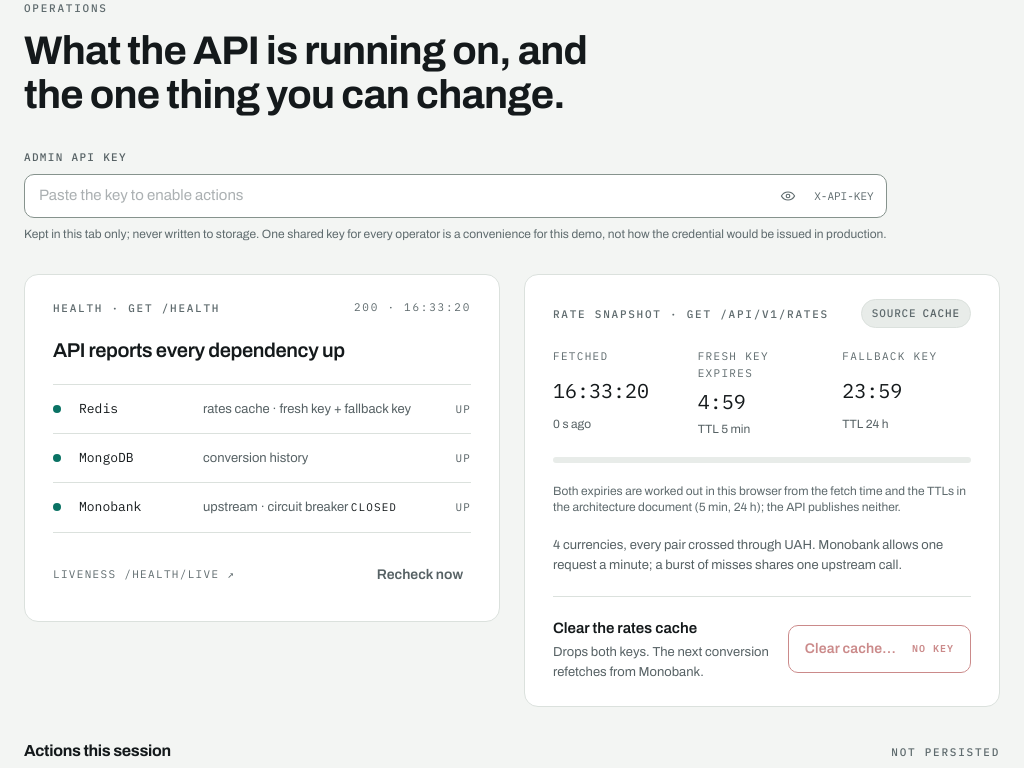
Test case: OpsPage clear-cache dialog › answers a 401 with the envelope’s own sentence and puts the caret on the key
The image size is (1024, 768).
Type "wrong-key" into the password field labelled "Admin API key" at (401, 196), box [39,175,762,217]
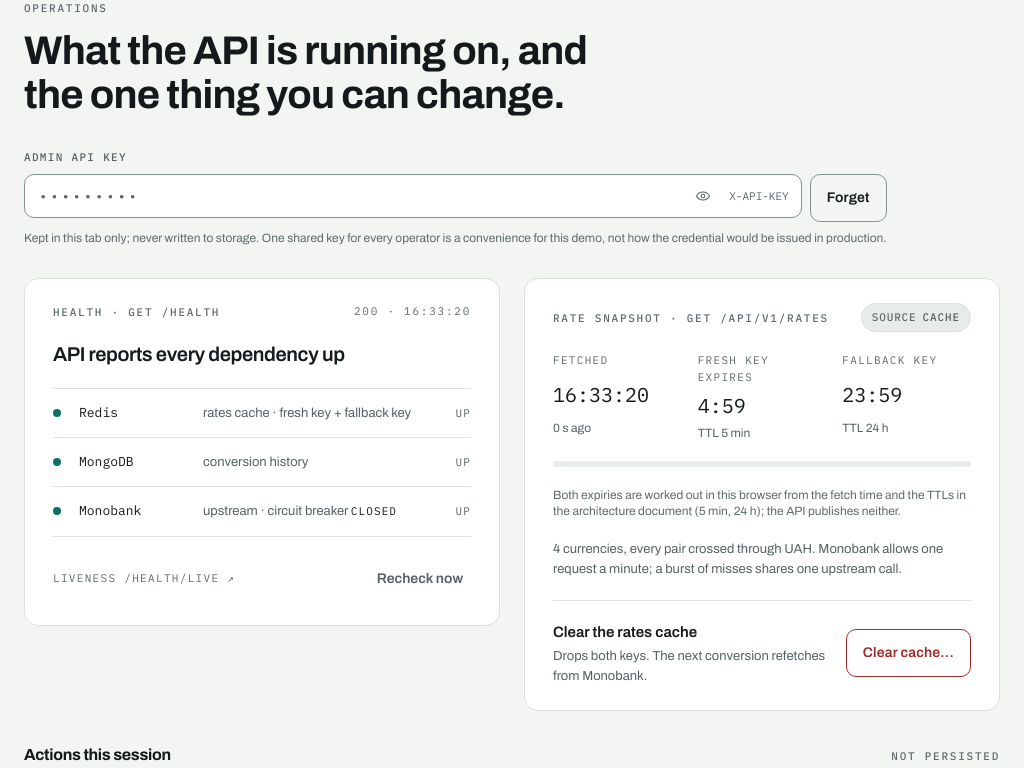
Click the button "Clear cache…" at (908, 653), box [846,629,971,677]
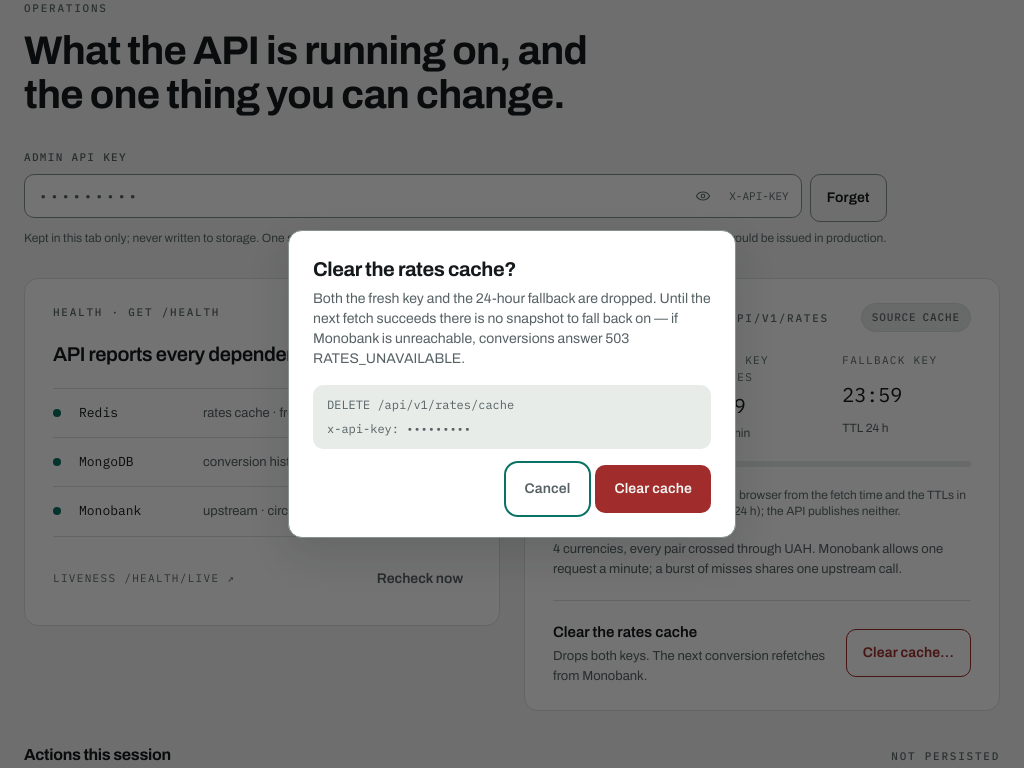
Click the button "Clear cache" at (653, 489), box [596,465,711,513]
(page scrolled)
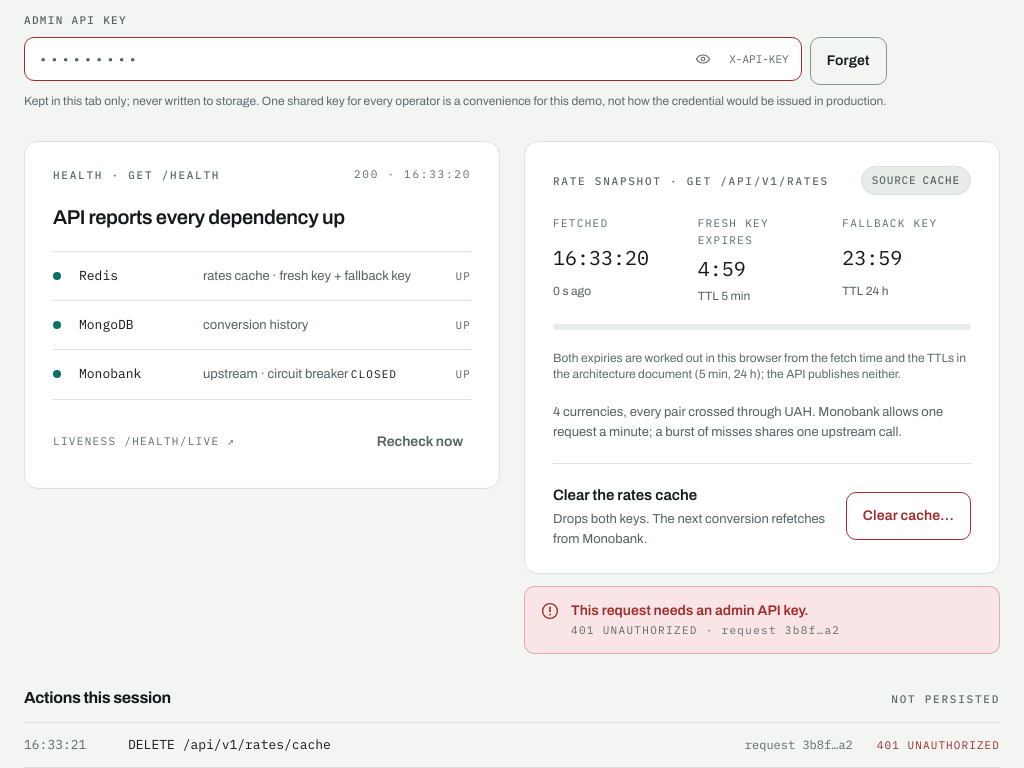
Now the text "This request needs an admin API key." is shown, box [571,601,840,621]
Now the text "401 UNAUTHORIZED · request 3b8f…a2" is shown, box [571,623,840,639]
Now the text "401 unauthorized" is shown, box [877,737,1000,754]
